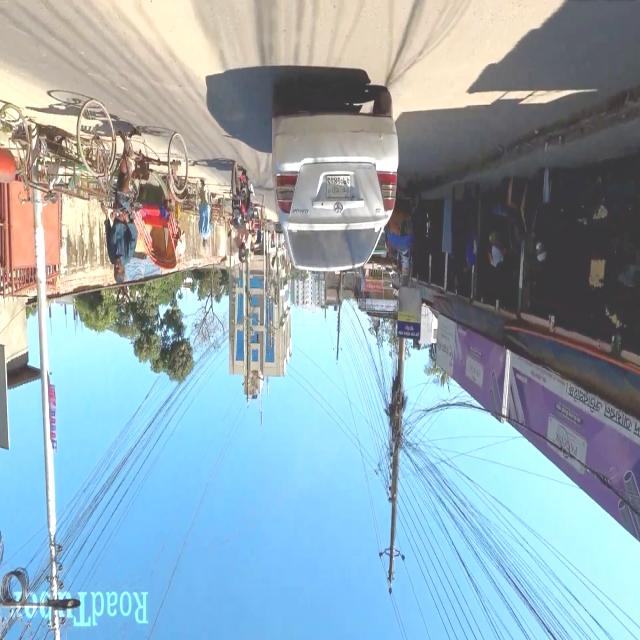white: (265, 84, 398, 278)
